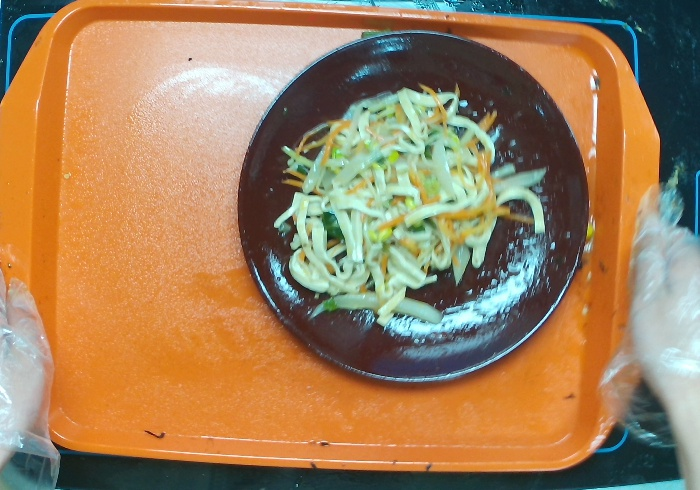HZYJPL-Ka_Fei_Yuan_Pan: (236, 28, 587, 387)
